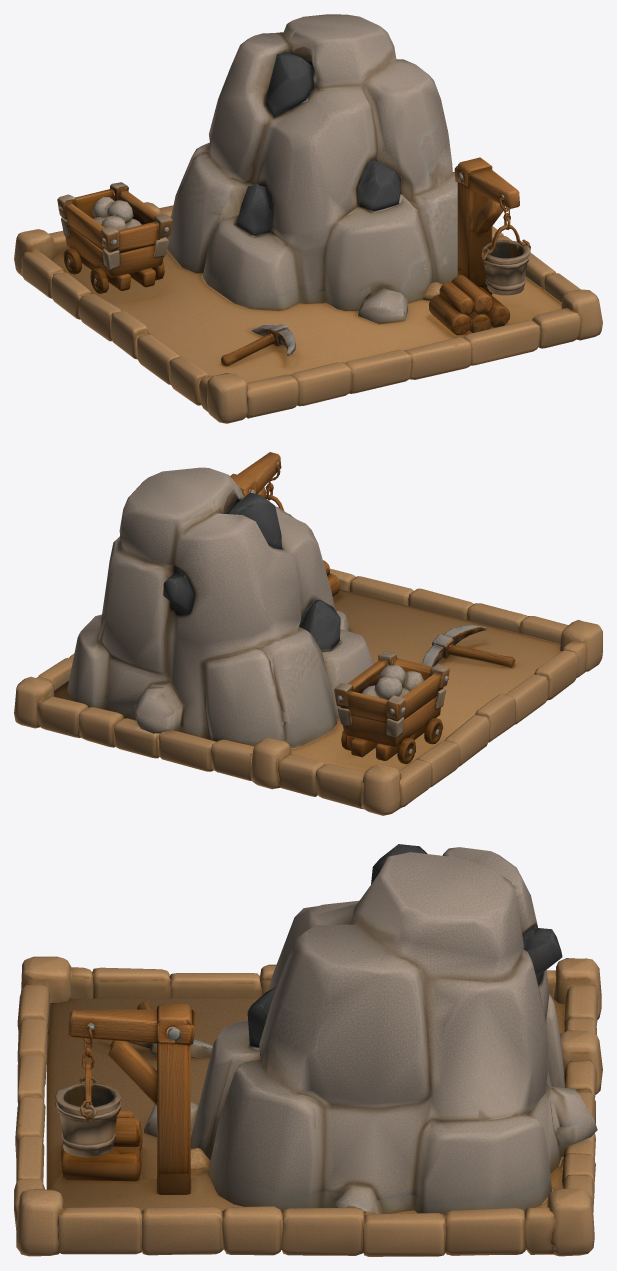
Rendered from rock_iron.fbx.
3 views of the same model, one above another, from view 1: azimuth 30°, elevation 25°; view 2: azimuth 150°, elevation 25°; view 3: azimuth 270°, elevation 25° (orthographic). The views are drawn at different scales.
Parts seen in each view (by area): view 1: tripo_part_4, tripo_part_45, tripo_part_112, tripo_part_9, tripo_part_99, tripo_part_14, tripo_part_98, tripo_part_11; view 2: tripo_part_4, tripo_part_45, tripo_part_112, tripo_part_9, tripo_part_11, tripo_part_99; view 3: tripo_part_4, tripo_part_45, tripo_part_112, tripo_part_99, tripo_part_14, tripo_part_11.
Boxes of the visible parts, bbox=[...] form: tripo_part_4: bbox=[166, 14, 457, 310]; tripo_part_45: bbox=[14, 202, 602, 423]; tripo_part_112: bbox=[51, 236, 561, 382]; tripo_part_9: bbox=[57, 182, 172, 293]; tripo_part_99: bbox=[454, 157, 530, 295]; tripo_part_14: bbox=[429, 275, 510, 335]; tripo_part_98: bbox=[358, 288, 407, 324]; tripo_part_11: bbox=[221, 324, 295, 366]; tripo_part_4: bbox=[67, 467, 374, 748]; tripo_part_45: bbox=[14, 568, 602, 815]; tripo_part_112: bbox=[54, 589, 561, 772]; tripo_part_9: bbox=[334, 651, 449, 764]; tripo_part_11: bbox=[422, 625, 515, 667]; tripo_part_99: bbox=[230, 452, 291, 515]; tripo_part_4: bbox=[190, 844, 597, 1215]; tripo_part_45: bbox=[14, 956, 602, 1256]; tripo_part_112: bbox=[46, 998, 565, 1249]; tripo_part_99: bbox=[55, 1004, 195, 1194]; tripo_part_14: bbox=[61, 1111, 142, 1181]; tripo_part_11: bbox=[128, 1001, 212, 1058].
Size of the model in its own units: 1 by 0.5773 by 0.9843.
Materials: 12 (12 with a texture image).
